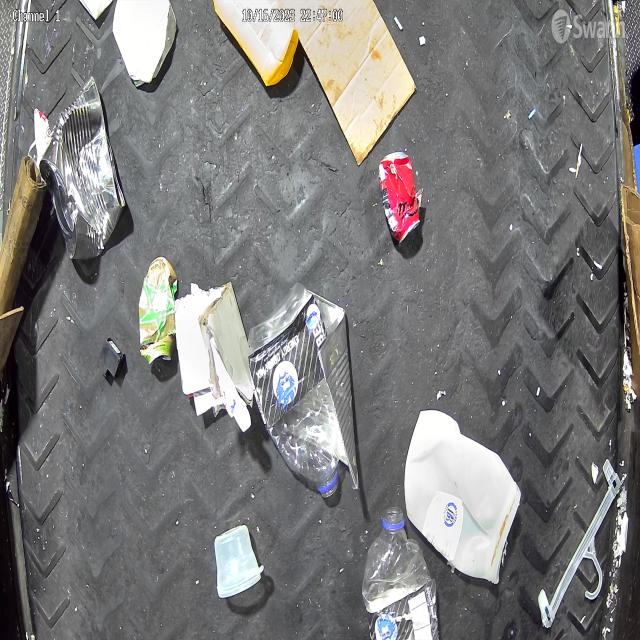can: (39, 74, 126, 260), (138, 256, 178, 366), (378, 152, 420, 246)
milk_jug: (404, 412, 522, 585)
non_white_jug: (212, 0, 299, 87)
plastic_bottle: (244, 284, 340, 498), (361, 506, 433, 638)
